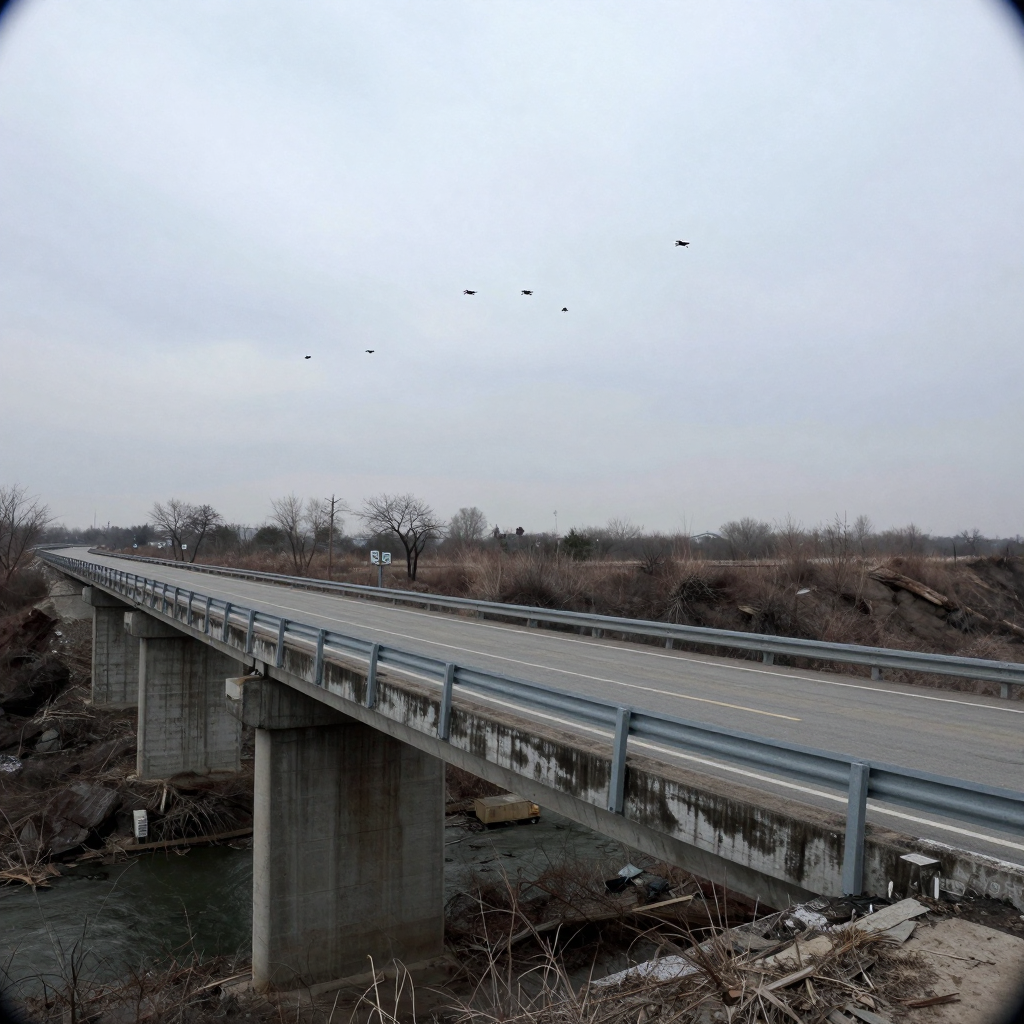drone: (674, 240, 690, 248), (463, 289, 478, 296), (521, 290, 534, 296), (364, 349, 375, 354), (302, 354, 313, 359), (561, 307, 568, 313)
